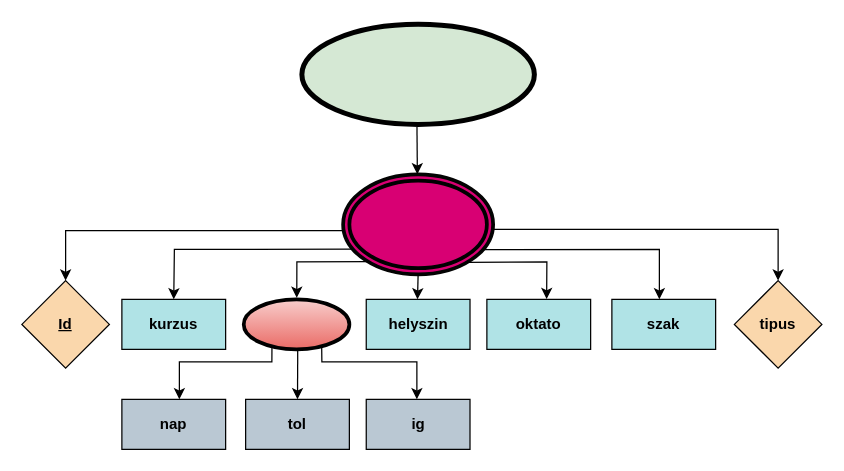
The diagram is 844 pixels wide and 471 high, and some of its shapes have lost their labels. The shapes that lost their labels are listed below. From the top down, each one's centre as x and y in pixels, then its label:
the point at 417,73: BSW6DS_orarend
the point at 417,223: ora
the point at 296,324: időpont
